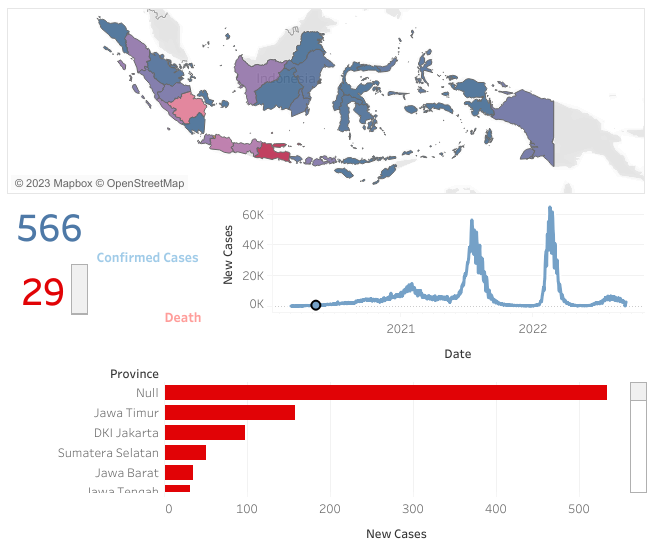

What the dashboard file says about the page in this screenshot:
{"tool":"tableau","page":{"name":"Dashboard 1","canvas":[650,860],"ordinal":0},"visuals":[{"type":"worksheet","title":"maps","mark":"Automatic","box":[7,11.8,638,286.7]},{"type":"worksheet","title":"Confirmed Cases","mark":"Automatic","box":[7,307.2,216,88.2]},{"type":"worksheet","title":"Daily New Cases","mark":"Automatic","rows":["New Cases"],"cols":["Date"],"box":[211,307.2,433,260.2]},{"type":"text","box":[94,371.9,108,44.1]},{"type":"worksheet","title":"Death","mark":"Automatic","box":[10,405.7,216,76.4]},{"type":"text","box":[162,463.1,100,44.1]},{"type":"worksheet","title":"Breakdown Per Province","mark":"Automatic","rows":["Province"],"cols":["New Cases"],"box":[4,555.7,643,286.7]}]}

Visuals, with their boxes on the page's 650x860 design canvas (x1, y1, x2, y2). These are canvas units, not pixel positions in the 649x559 screenshot, which may show the page scaled, cropped or inside an application window:
"maps" worksheet: Rect(7, 12, 645, 298)
"Confirmed Cases" worksheet: Rect(7, 307, 223, 395)
"Daily New Cases" worksheet: Rect(211, 307, 644, 567)
text: Rect(94, 372, 202, 416)
"Death" worksheet: Rect(10, 406, 226, 482)
text: Rect(162, 463, 262, 507)
"Breakdown Per Province" worksheet: Rect(4, 556, 647, 842)
